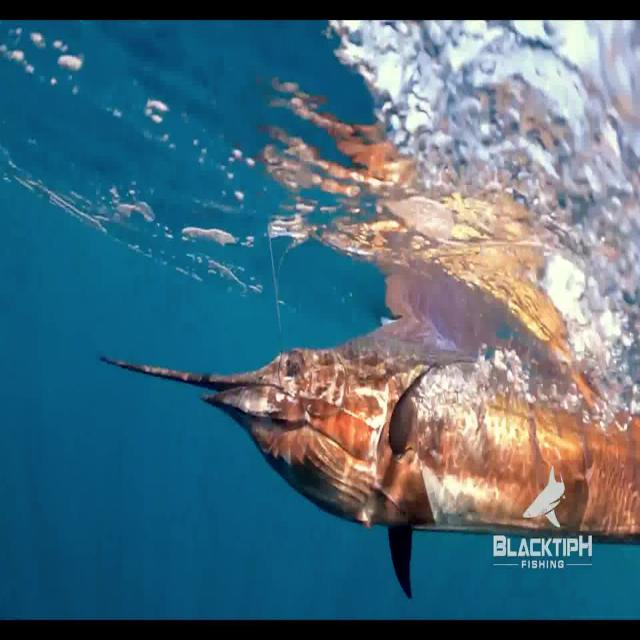Sail Fish: (97, 316, 640, 604)
